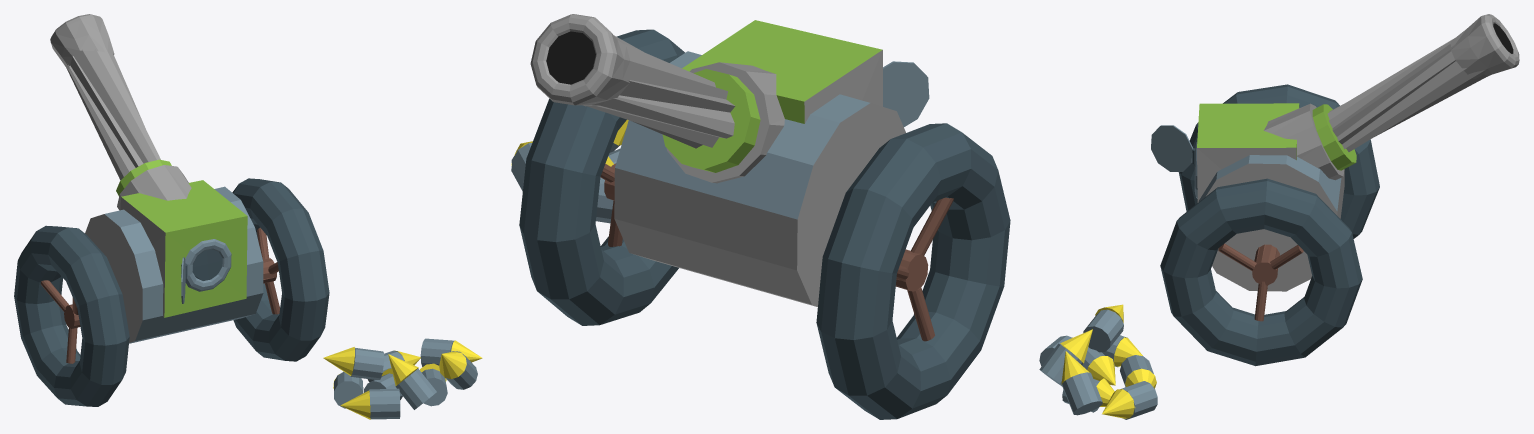
The picture shows the model from 3 angles, left to right: view 1: azimuth 30°, elevation 25°; view 2: azimuth 150°, elevation 25°; view 3: azimuth 270°, elevation 25°; orthographic projection. The views are drawn at different scales.
Parts seen in each view (by area): view 1: group1335302306, group765829195, group1353172733, group629088689, group1524953804, group982652782, group1650562516, group1007837861, group6644655, group224954157, group1561210883, group1781776909 (+10 smaller); view 2: group1335302306, group629088689, group765829195, group1353172733, group1524953804, group982652782, group1033109699, group1650562516, group1687754690, group1731888938, group932783644, group2024918645 (+2 smaller); view 3: group765829195, group1524953804, group629088689, group1353172733, group1335302306, group982652782, group1650562516, group1687754690, group1033109699, group32846267, group1561210883, group1731888938 (+7 smaller).
Boxes of the visible parts, x1=… form: group1335302306: x1=14, y1=225, x2=129, y2=406; group765829195: x1=232, y1=178, x2=329, y2=361; group1353172733: x1=120, y1=180, x2=247, y2=317; group629088689: x1=85, y1=186, x2=263, y2=343; group1524953804: x1=66, y1=45, x2=160, y2=180; group982652782: x1=50, y1=14, x2=114, y2=69; group1650562516: x1=117, y1=165, x2=191, y2=210; group1007837861: x1=185, y1=239, x2=231, y2=291; group6644655: x1=369, y1=388, x2=400, y2=419; group224954157: x1=395, y1=368, x2=436, y2=409; group1561210883: x1=350, y1=348, x2=384, y2=379; group1781776909: x1=192, y1=249, x2=222, y2=280; group1335302306: x1=816, y1=123, x2=1010, y2=419; group629088689: x1=614, y1=51, x2=905, y2=306; group765829195: x1=519, y1=29, x2=684, y2=325; group1353172733: x1=682, y1=20, x2=882, y2=123; group1524953804: x1=546, y1=31, x2=735, y2=148; group982652782: x1=530, y1=14, x2=630, y2=106; group1033109699: x1=662, y1=69, x2=760, y2=172; group1650562516: x1=666, y1=62, x2=784, y2=183; group1687754690: x1=883, y1=61, x2=929, y2=126; group1731888938: x1=604, y1=163, x2=928, y2=291; group932783644: x1=911, y1=197, x2=953, y2=255; group2024918645: x1=907, y1=287, x2=934, y2=341; group765829195: x1=1160, y1=178, x2=1362, y2=366; group1524953804: x1=1327, y1=23, x2=1513, y2=151; group629088689: x1=1198, y1=155, x2=1344, y2=291; group1353172733: x1=1197, y1=103, x2=1299, y2=202; group1335302306: x1=1178, y1=84, x2=1379, y2=238; group982652782: x1=1450, y1=14, x2=1519, y2=78; group1650562516: x1=1263, y1=103, x2=1344, y2=180; group1687754690: x1=1151, y1=125, x2=1193, y2=171; group1033109699: x1=1312, y1=104, x2=1356, y2=170; group32846267: x1=1062, y1=372, x2=1102, y2=415; group1561210883: x1=1083, y1=309, x2=1123, y2=352; group1731888938: x1=1252, y1=244, x2=1279, y2=285.
Size of the model in its own units: 1.34 by 1.06 by 1.49.
